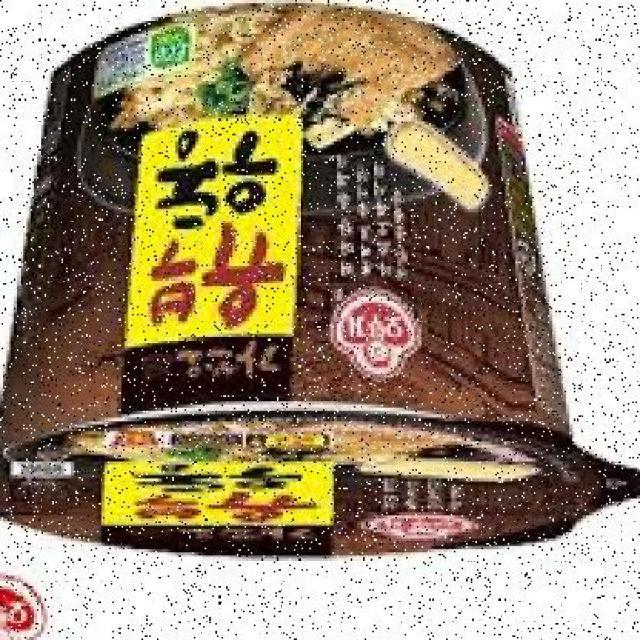Miscellaneous: (0, 23, 634, 566)
